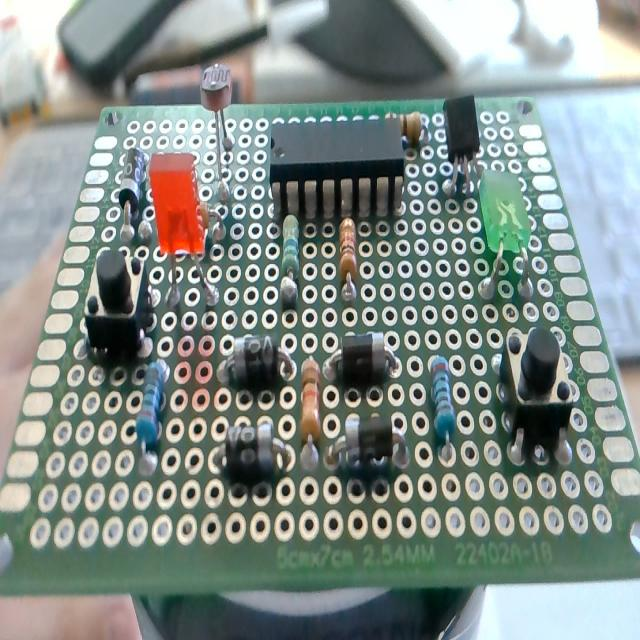IC: (267, 116, 408, 214)
cds: (200, 63, 236, 198)
diode: (328, 412, 411, 472), (215, 421, 292, 484), (218, 335, 295, 388), (324, 333, 399, 384), (119, 144, 152, 240)
led: (148, 153, 217, 312), (477, 167, 532, 299)
resistor: (134, 358, 168, 450), (429, 355, 456, 451), (300, 357, 322, 451), (338, 214, 358, 304), (280, 216, 300, 306)
switch: (500, 323, 574, 460), (84, 244, 155, 360)
transistor: (440, 95, 481, 194)
